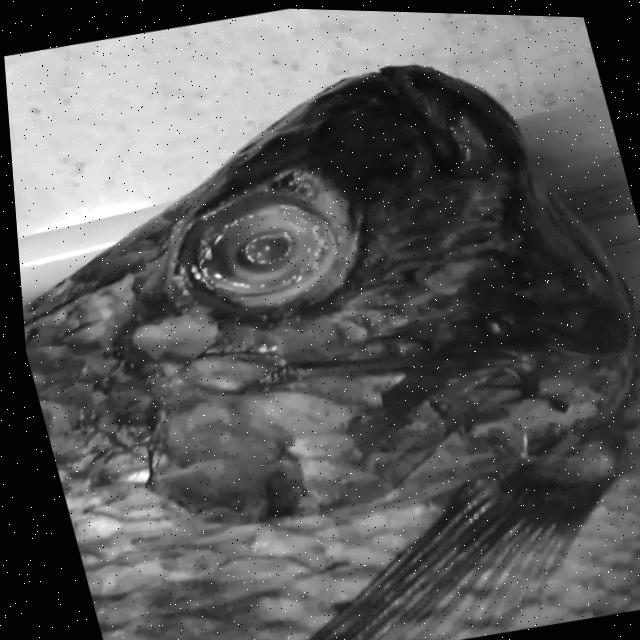Non-Fresh: (163, 162, 368, 334)
